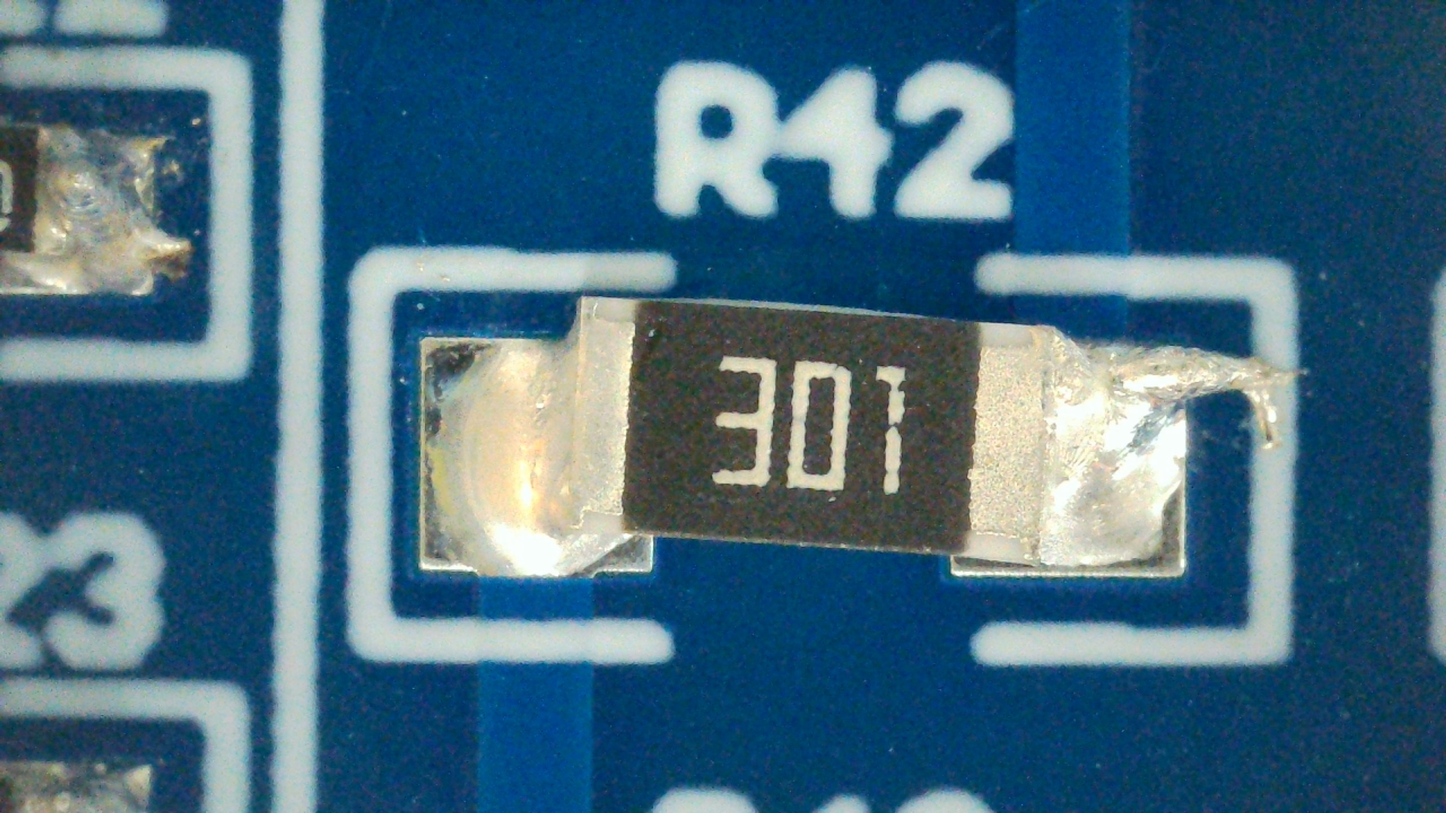NG: (419, 298, 1307, 578)
